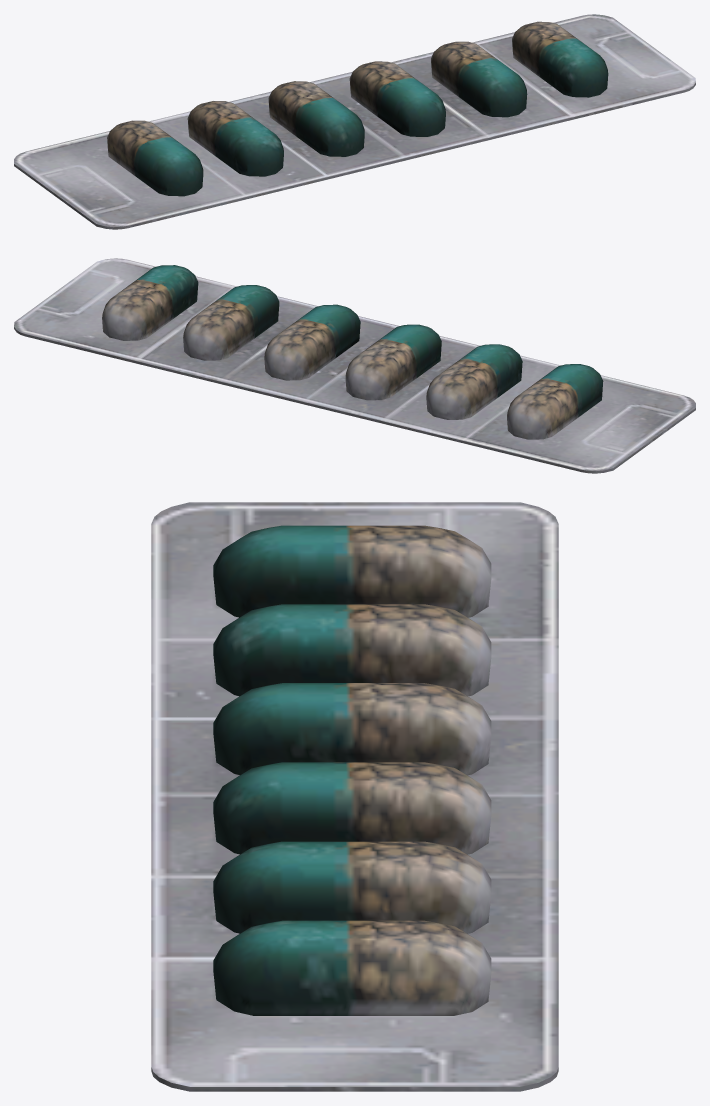
The model's file is medicine_blister_antibiotic.DAE.
3 renders of one model, top to bottom at view 1: azimuth 30°, elevation 25°; view 2: azimuth 150°, elevation 25°; view 3: azimuth 270°, elevation 25°, orthographic. The views are drawn at different scales.
Parts seen in each view (by area): view 1: medicine_blister_antibiotic; view 2: medicine_blister_antibiotic; view 3: medicine_blister_antibiotic.
Part boxes in pixels (x1=…): medicine_blister_antibiotic: x1=14, y1=14, x2=695, y2=229; medicine_blister_antibiotic: x1=14, y1=258, x2=695, y2=473; medicine_blister_antibiotic: x1=151, y1=502, x2=558, y2=1091.
Bounding box in the file's own units: 0.2519 × 0.0136 × 0.0741.
